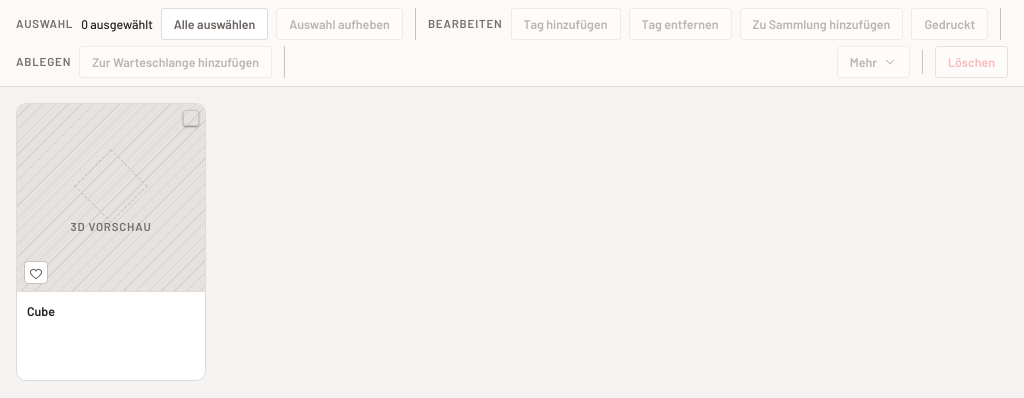
Test: shows the selection bar before anything is selected and "Alle auswählen" selects without a prior selection
The width and height of the screenshot is (1024, 398).
Expected: the text "0 ausgewählt" is shown, left=81, top=15, right=153, bottom=33
Click the button "Alle auswählen".
click(215, 24)  # box left=161, top=8, right=268, bottom=40
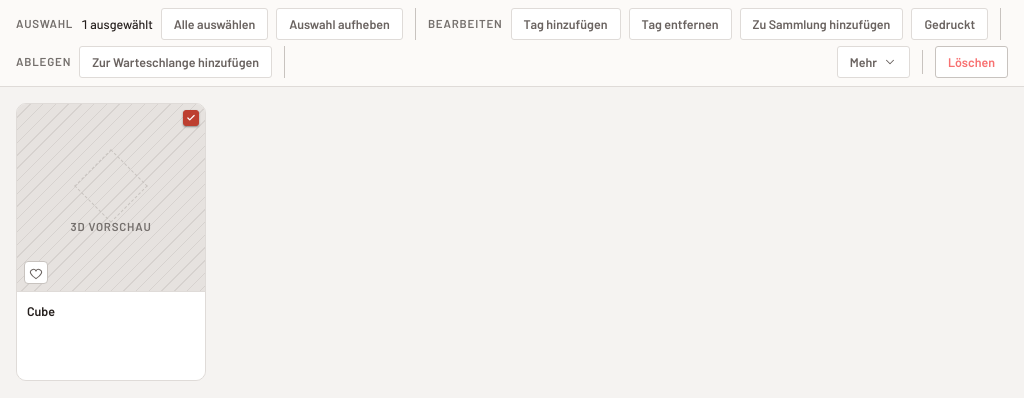
Result: the text "1 ausgewählt" is shown at left=81, top=15, right=153, bottom=33
